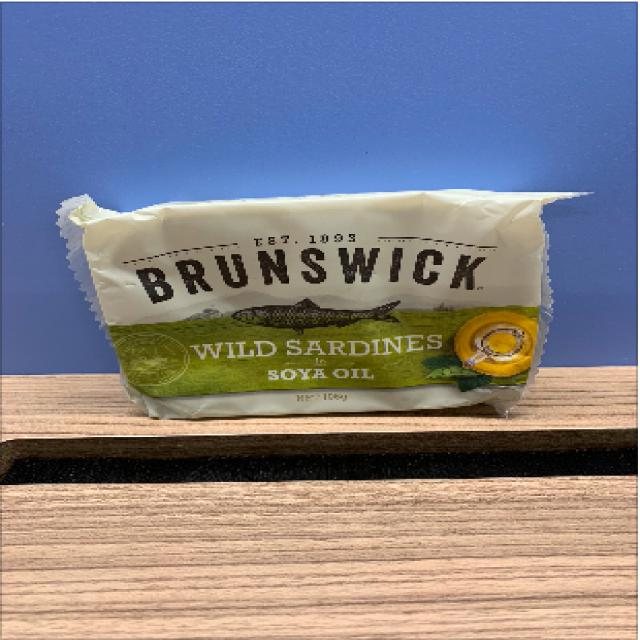object_name: (76, 188, 558, 413)
